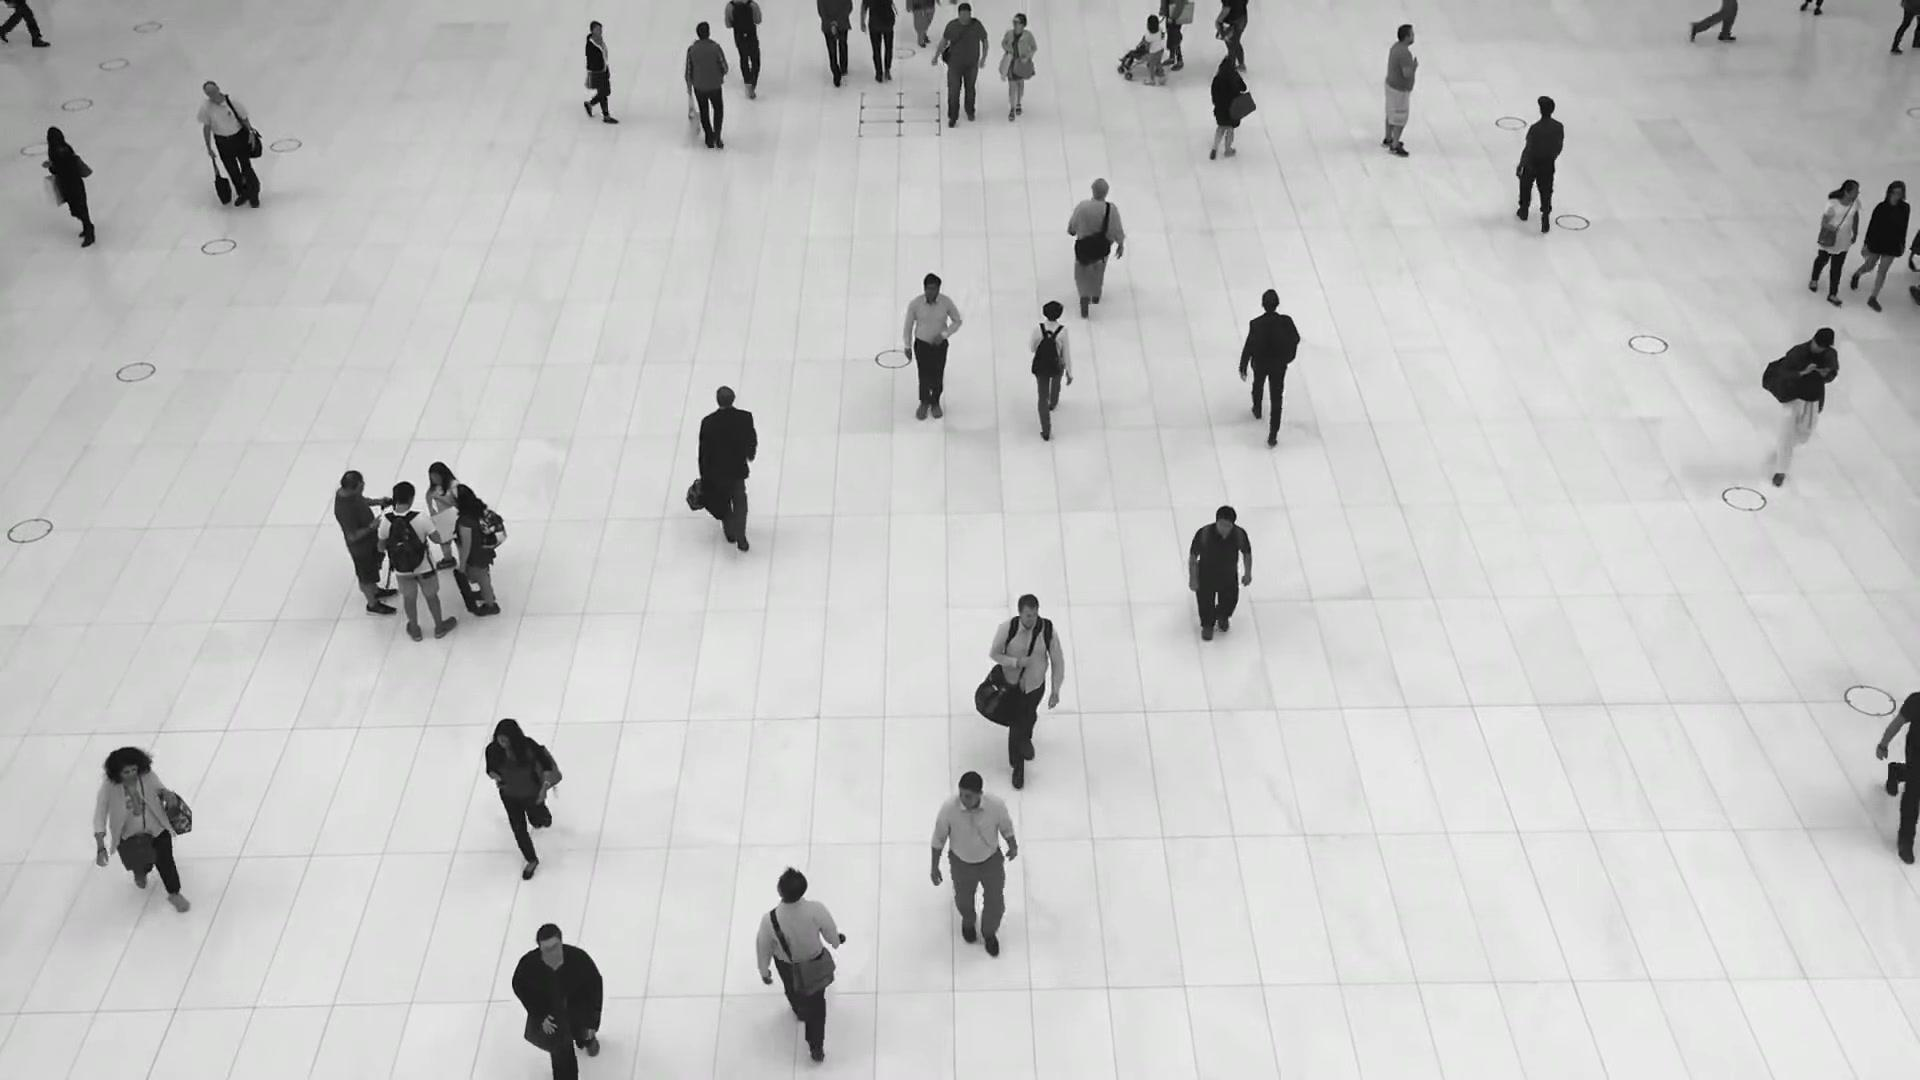person: (930, 774, 1022, 975), (91, 747, 192, 921), (508, 919, 610, 1079), (755, 864, 843, 1045), (987, 597, 1064, 792), (377, 480, 459, 641), (483, 716, 563, 878), (1761, 326, 1840, 485), (697, 385, 761, 561), (1236, 284, 1304, 436), (1184, 509, 1254, 658), (901, 274, 962, 436), (333, 469, 400, 615), (1063, 176, 1124, 316), (198, 83, 258, 215), (1852, 179, 1911, 310), (1512, 93, 1567, 232), (1804, 178, 1862, 303), (449, 483, 501, 616), (934, 4, 989, 128), (42, 126, 96, 248), (1026, 295, 1074, 433), (683, 23, 729, 157), (1381, 23, 1419, 157), (579, 20, 627, 125), (1205, 57, 1247, 165), (423, 460, 459, 580), (998, 14, 1036, 123), (724, 0, 768, 95), (1143, 13, 1166, 86)
